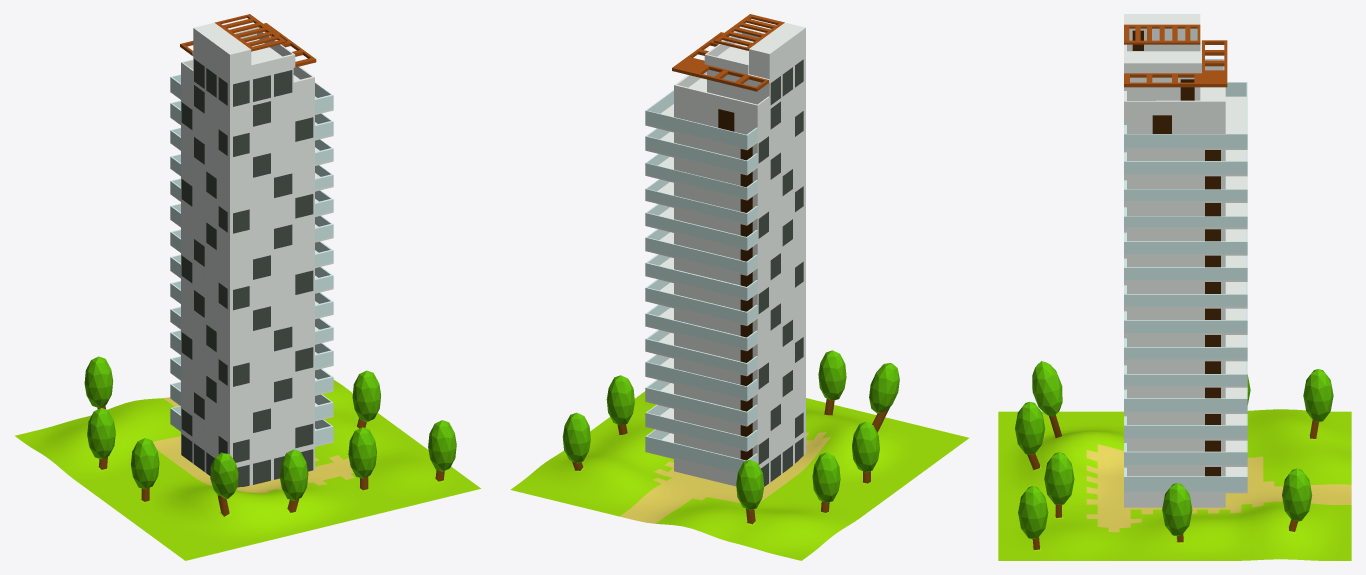
File: Arch.glb
The picture shows the model from 3 angles, left to right: view 1: azimuth 30°, elevation 25°; view 2: azimuth 150°, elevation 25°; view 3: azimuth 270°, elevation 25°; orthographic projection. The views are drawn at different scales.
Parts seen in each view (by area): view 1: Cube.001, Plane; view 2: Cube.001, Plane; view 3: Cube.001, Plane.
Part boxes in pixels (<box>): Cube.001: <box>170,14,333,487</box>; Plane: <box>15,356,480,560</box>; Cube.001: <box>645,14,805,486</box>; Plane: <box>510,350,968,560</box>; Cube.001: <box>1124,14,1247,507</box>; Plane: <box>998,361,1351,560</box>.
Size of the model in its own units: 1.21 by 1.71 by 1.21.
